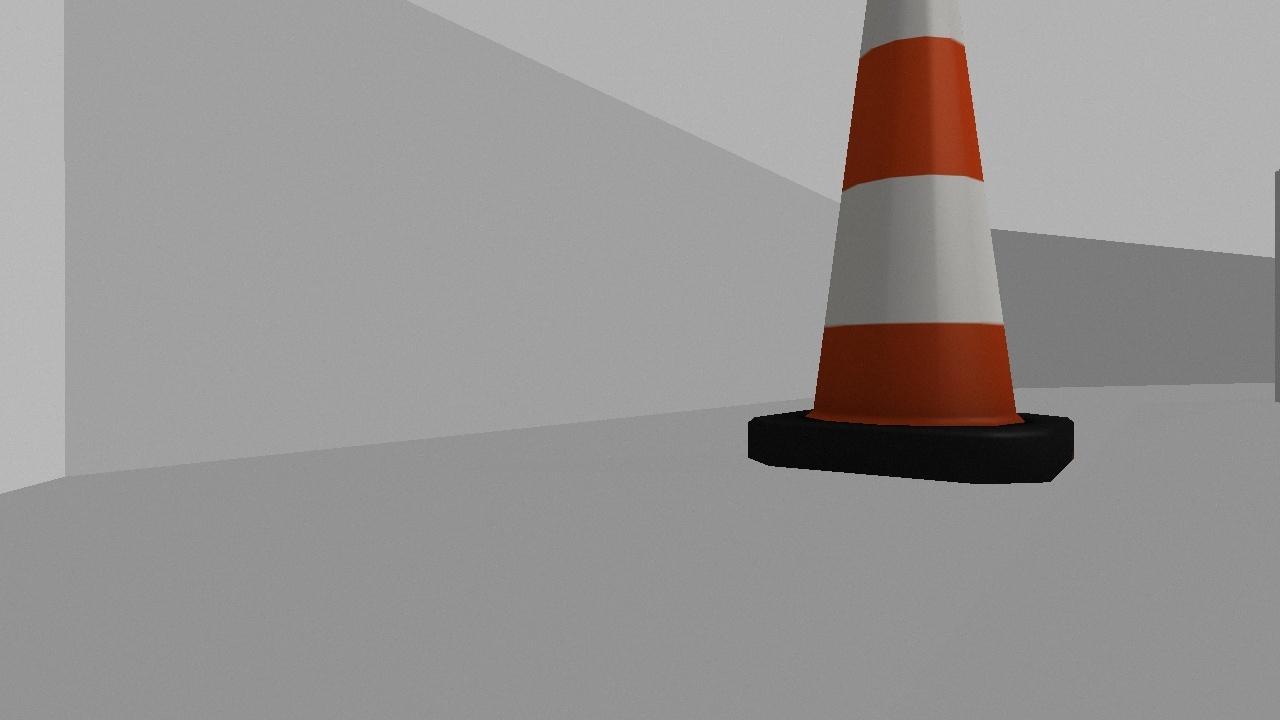cone_barrel: (744, 0, 1073, 485)
